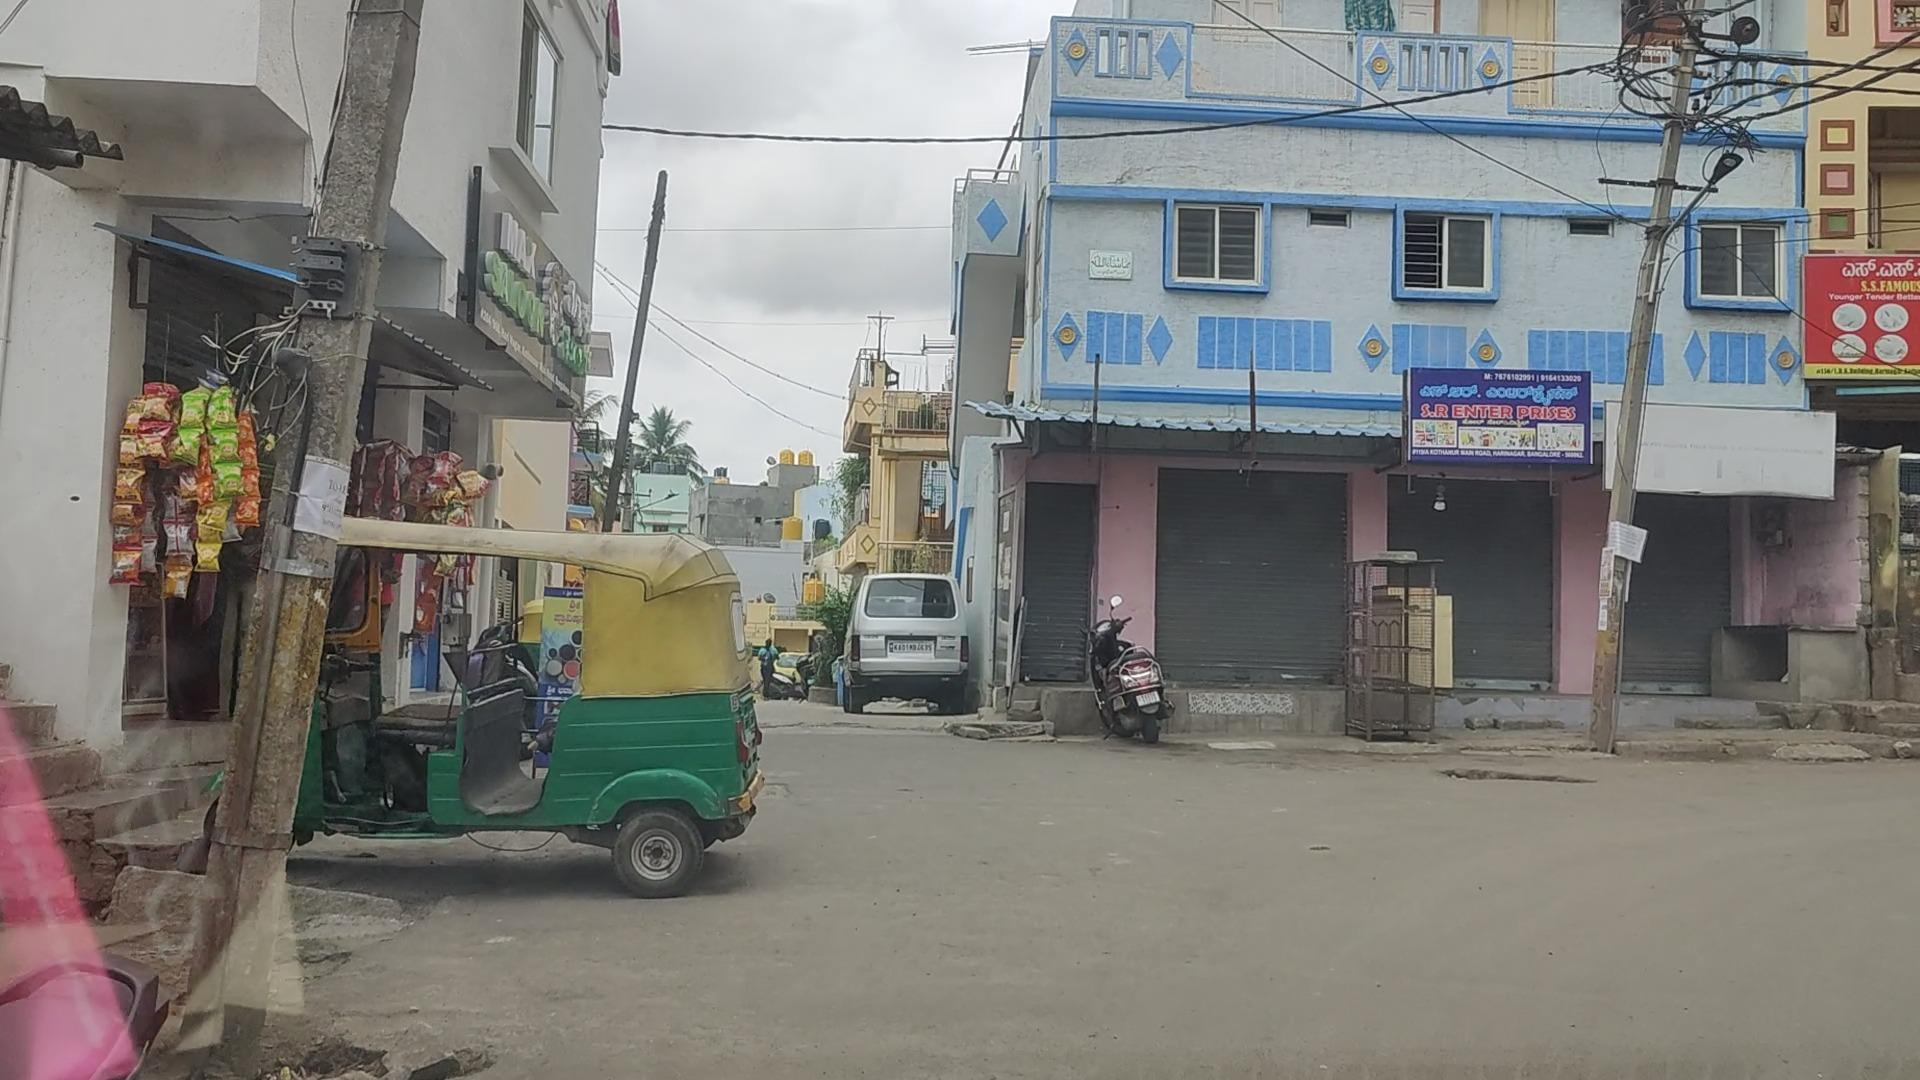RoadDamages: (355, 982, 531, 1080)
